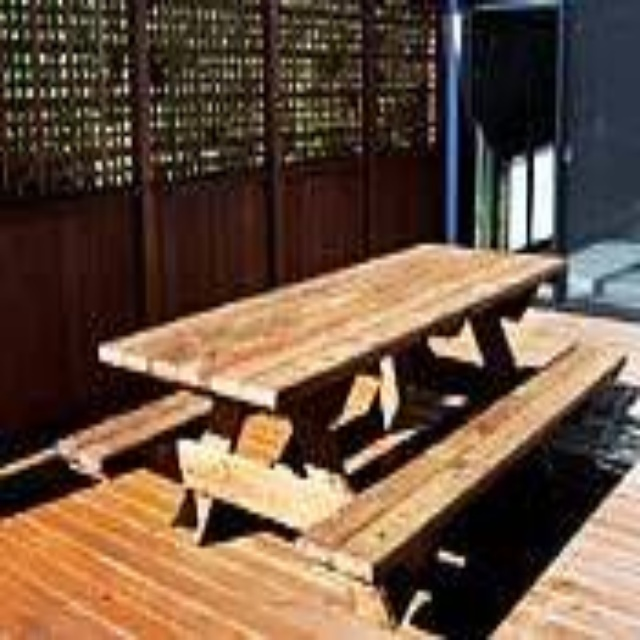obstacle: (62, 230, 622, 620)
